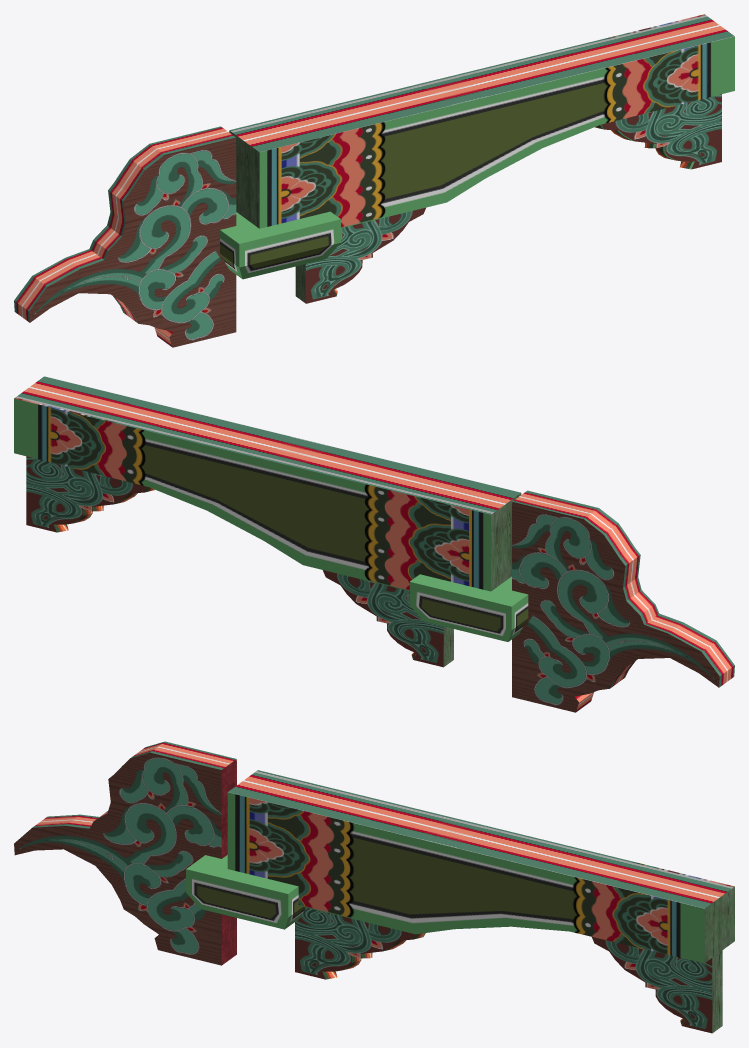
The model's file is SM_R_Beam_2.fbx.
3 renders of one model, top to bottom at view 1: azimuth 30°, elevation 25°; view 2: azimuth 150°, elevation 25°; view 3: azimuth 330°, elevation 25°, orthographic.
Parts seen in each view (by area): view 1: SM_R_Beam_2; view 2: SM_R_Beam_2; view 3: SM_R_Beam_2.
Boxes of the visible parts, x1,y1,x2,y2 form: SM_R_Beam_2: (14, 14, 734, 347); SM_R_Beam_2: (14, 376, 734, 712); SM_R_Beam_2: (14, 741, 734, 1033).
Size of the model in its own units: 265 by 33.59 by 70.75.
Materials: 6 (6 with a texture image).
